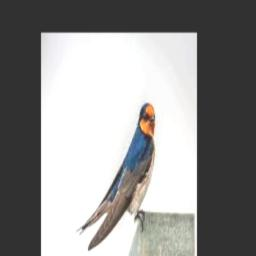Swallow: (76, 103, 155, 251)
